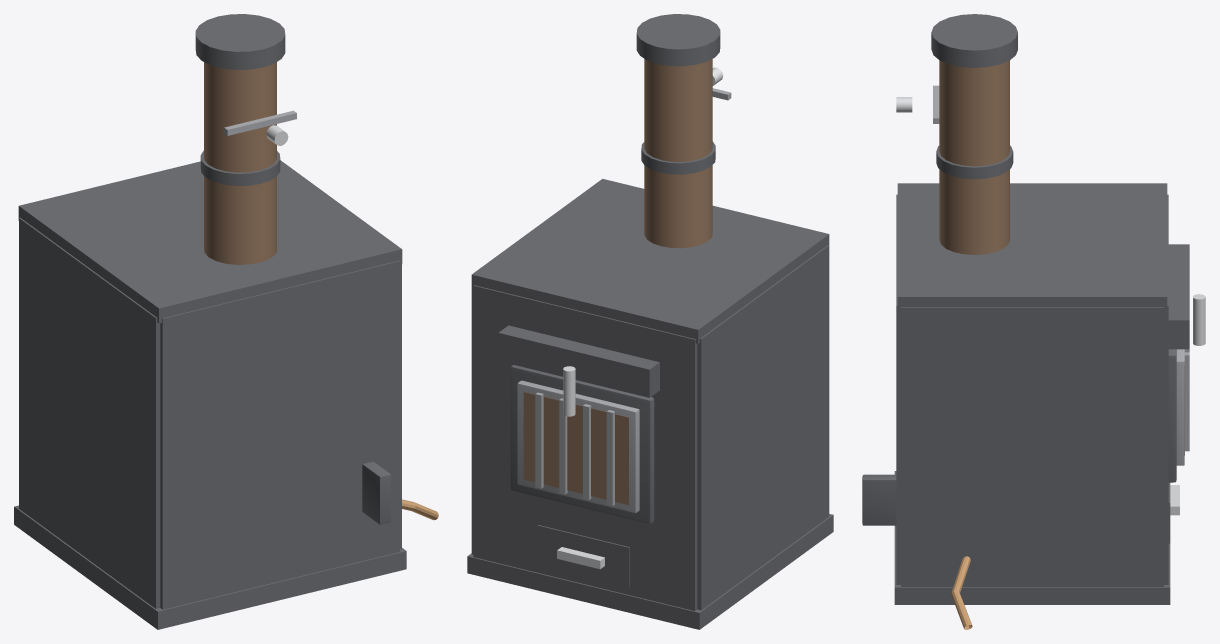
File: DD_furnace.fbx
3 renders of one model, left to right at view 1: azimuth 30°, elevation 25°; view 2: azimuth 150°, elevation 25°; view 3: azimuth 270°, elevation 25°, orthographic. The views are drawn at different scales.
Visible parts, largest first — view 1: DD_furnace; view 2: DD_furnace; view 3: DD_furnace.
Boxes of the visible parts, x1=… form: DD_furnace: x1=14, y1=14, x2=438, y2=629; DD_furnace: x1=467, y1=14, x2=833, y2=629; DD_furnace: x1=862, y1=14, x2=1205, y2=629.
Size of the model in its own units: 1.1 by 1.77 by 1.07.
